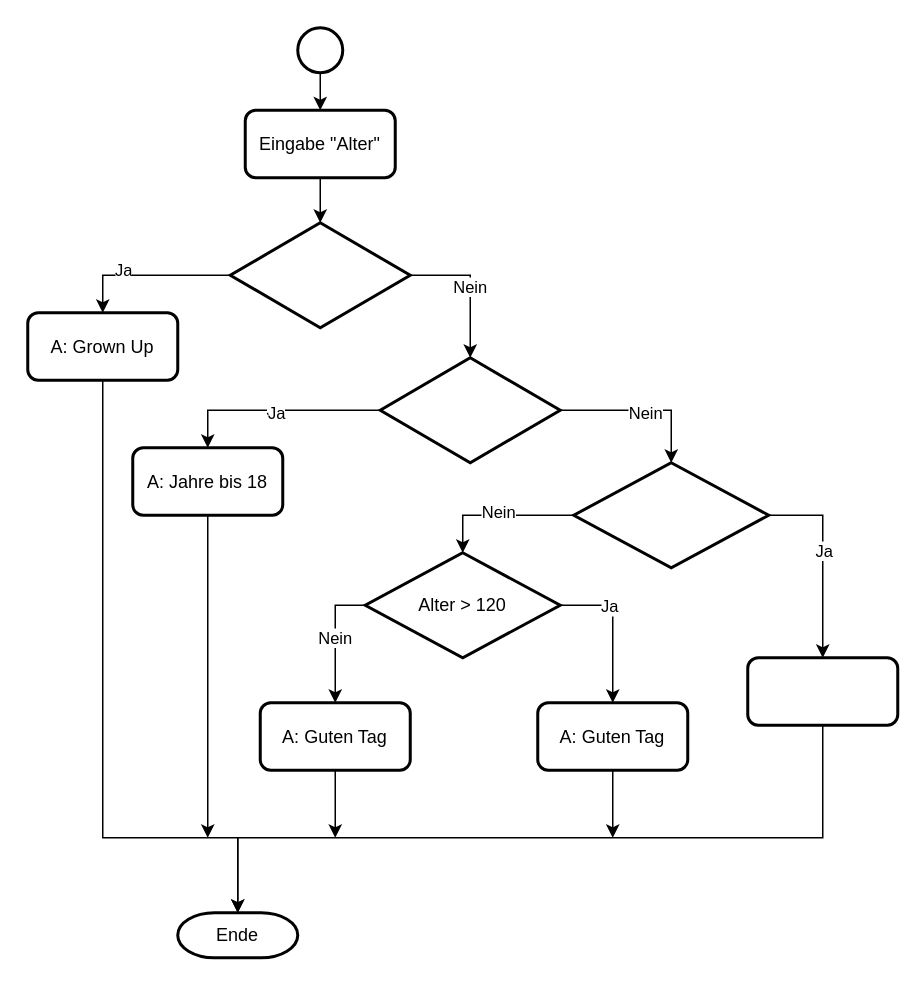
Some shapes in this 924 by 984 pixel diagram are drawn without their labels. The centre of each missing label's shape, as x and y in pixels:
"18 <= Alter <= 20" belongs at (x=319, y=274).
"65 <= Alter <= 120" belongs at (x=671, y=514).
"A: Hallo Senior" belongs at (x=822, y=691).
"Alter < =18" belongs at (x=469, y=410).
